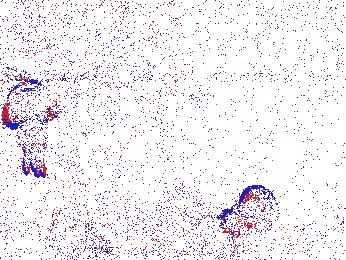flame jellyfish: (3, 81, 63, 178), (219, 184, 280, 239), (48, 204, 110, 255)
